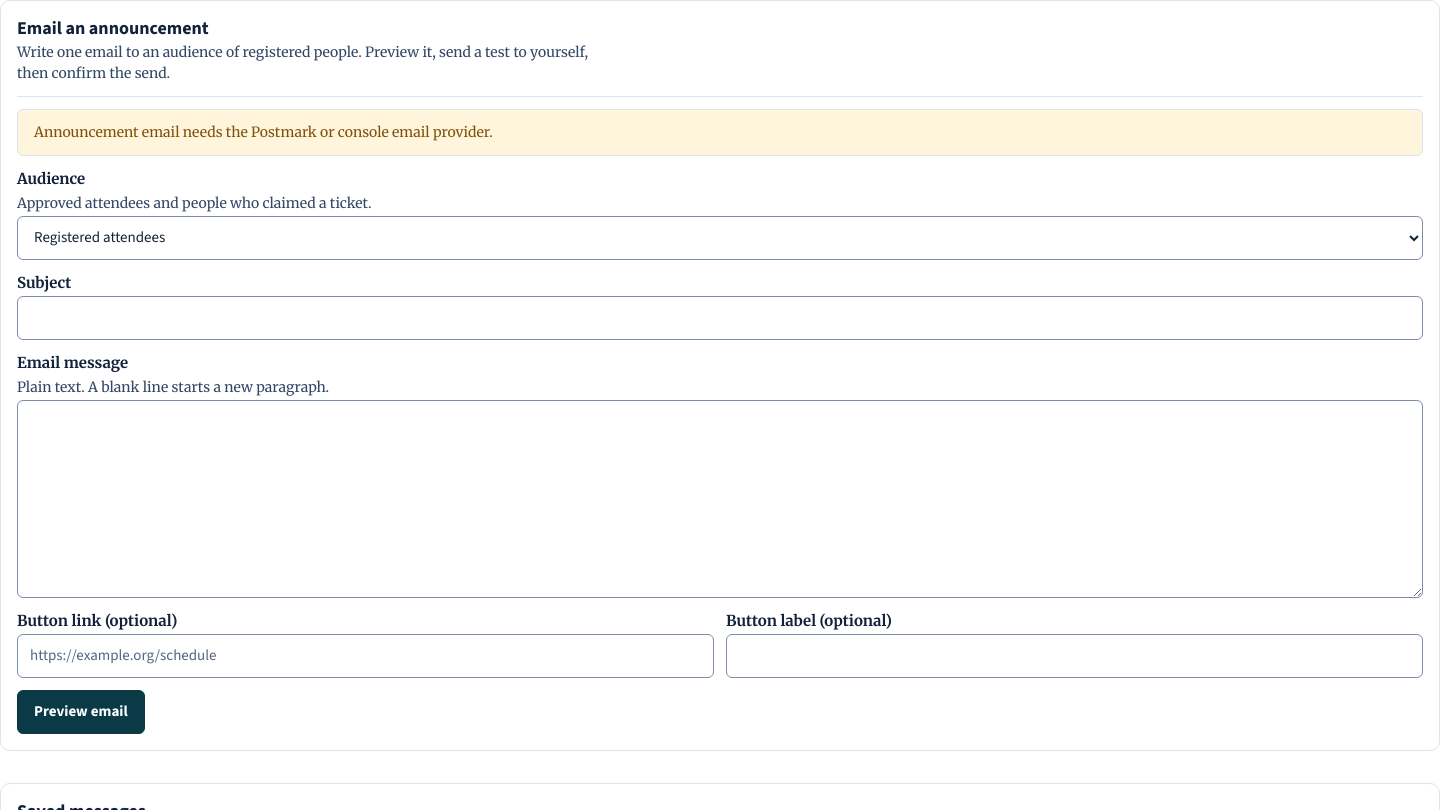
Test: AnnouncementEmailComposer › shows the blocker and offers no send when the channel cannot send
expect the dropdown labelled "Audience" is shown: met, box [17,216,1423,260]
expect the text "Announcement email needs the Postmark or console email provider." is shown: met, box [17,109,1423,156]
Type "Doors open at nine" into the field labelled "Subject" at {"x": 720, "y": 318}, box [17,296,1423,340]
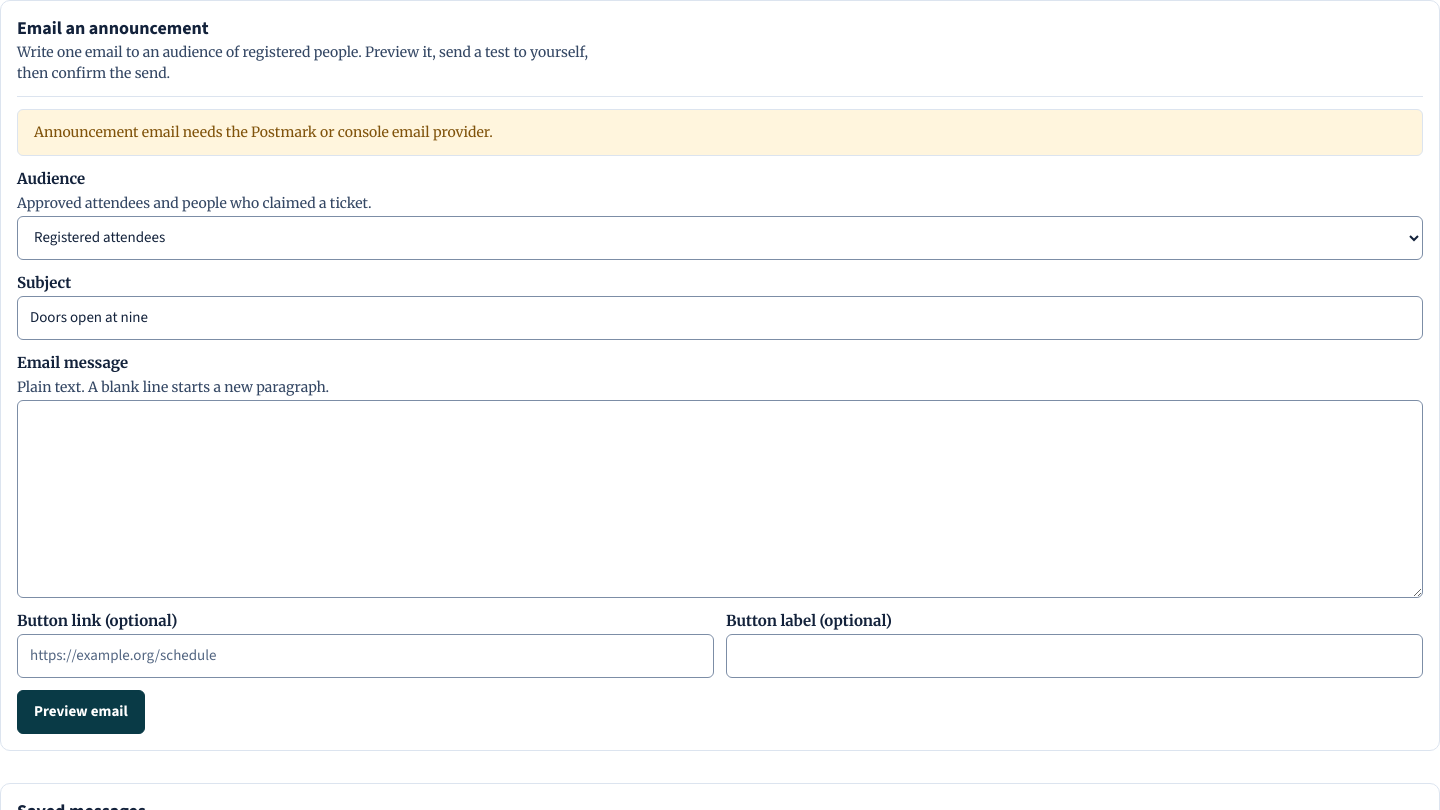
Type "Doors open at nine." into the text box labelled "Email message" at {"x": 720, "y": 499}, box [17,400,1423,598]
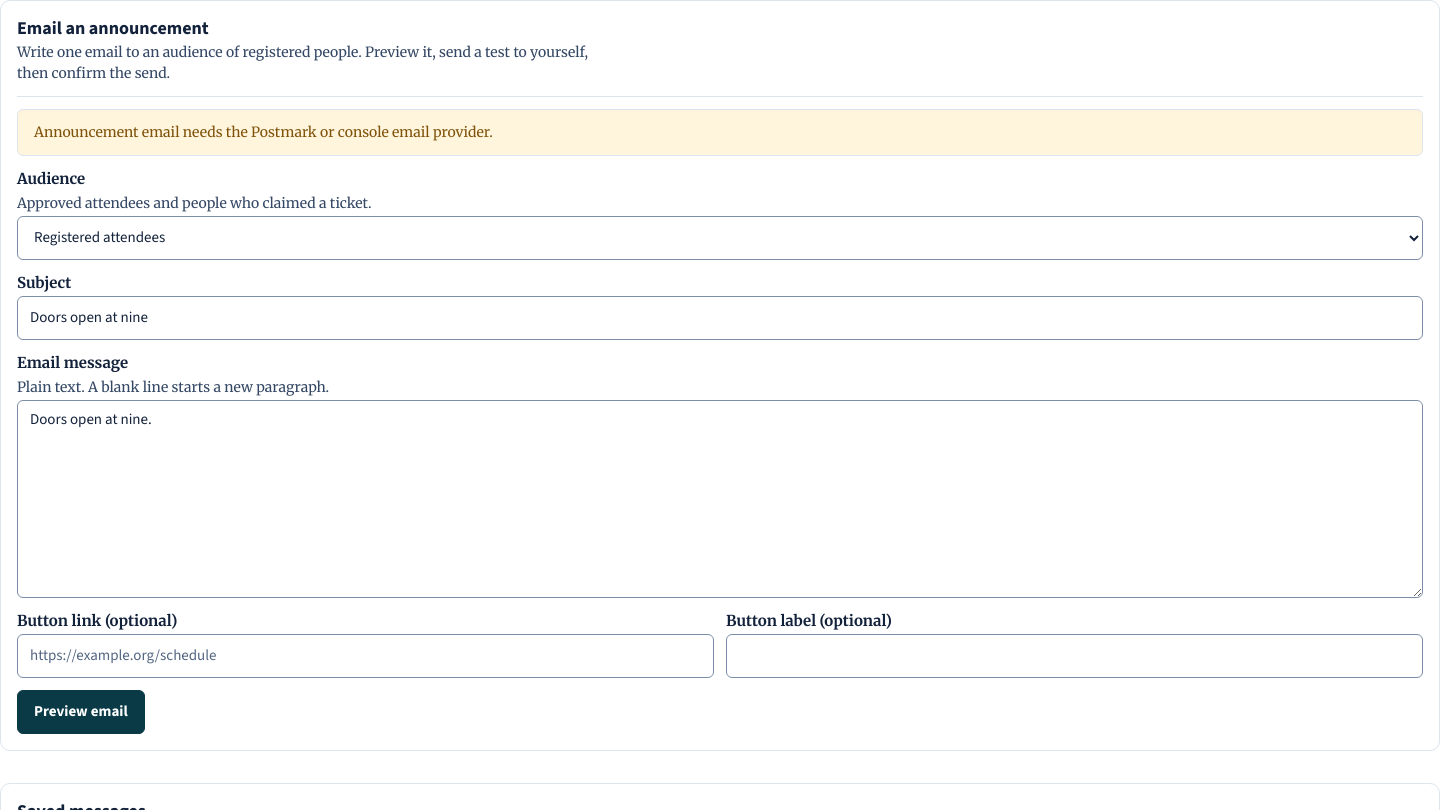
Click the button "Preview email" at {"x": 81, "y": 712}, box [17,690,145,734]
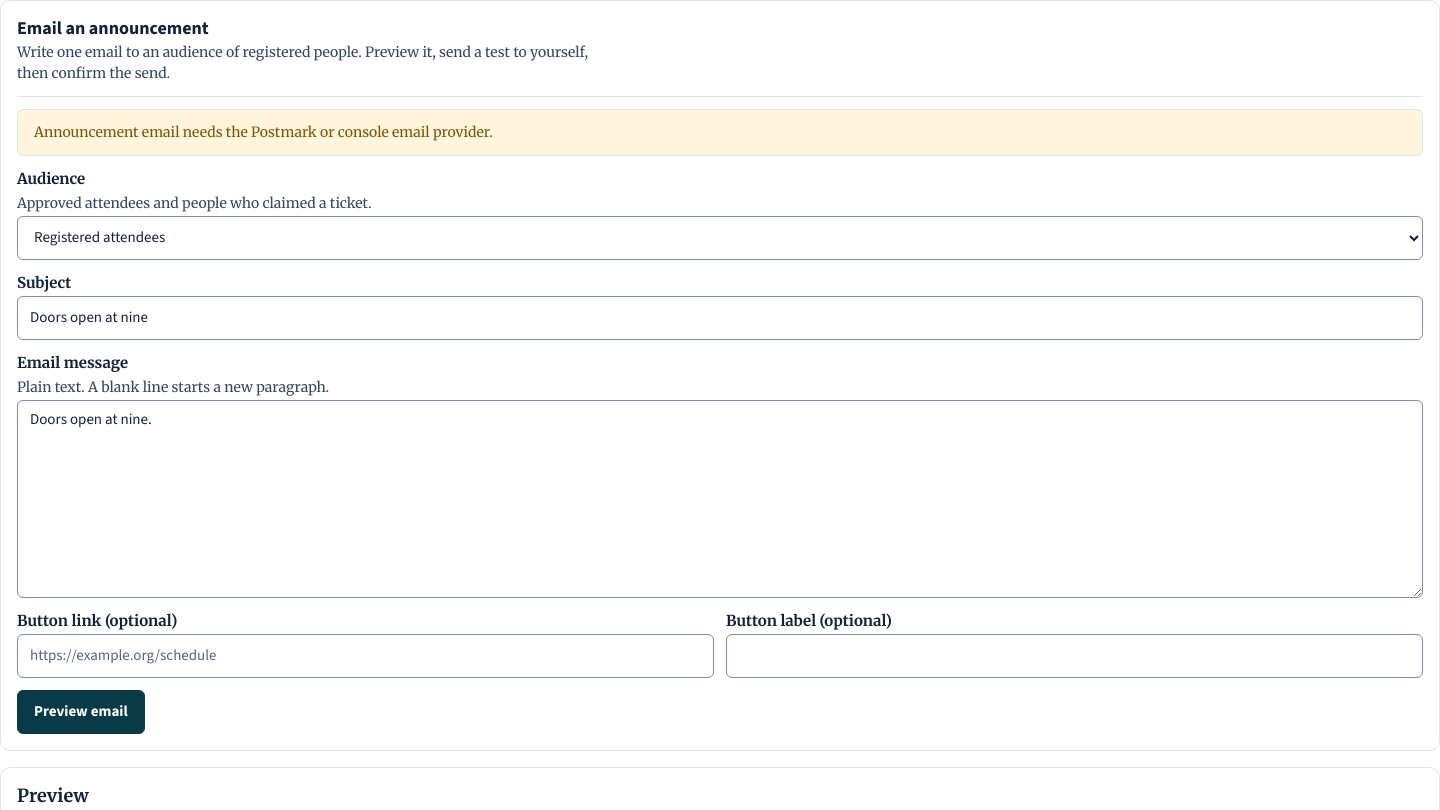
expect the heading "Preview" is shown: met, box [17,784,89,807]
